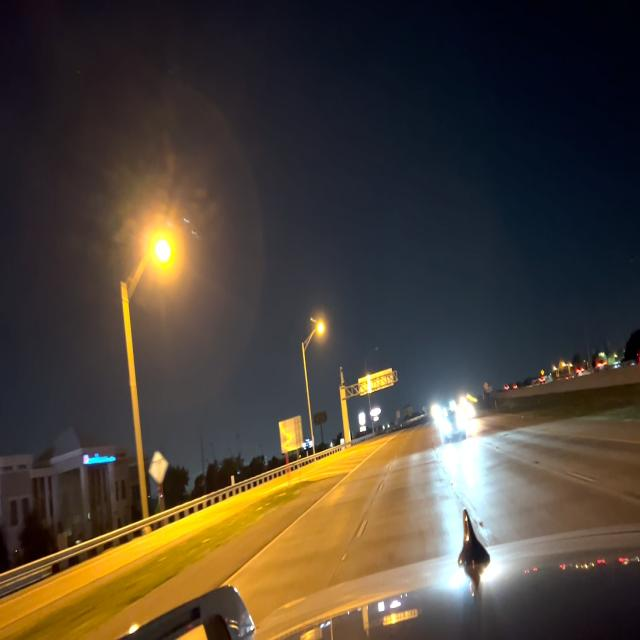back-of-sign: (278, 414, 304, 456), (149, 449, 169, 486)
